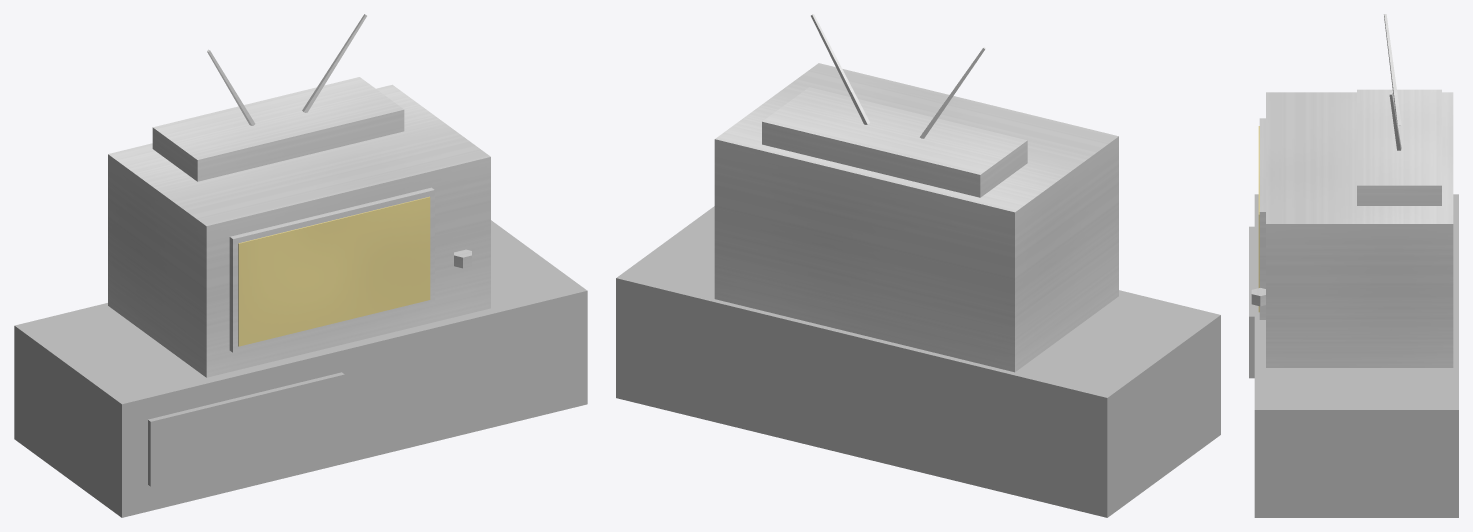
3 views of the same model, side by side, from view 1: azimuth 30°, elevation 25°; view 2: azimuth 150°, elevation 25°; view 3: azimuth 270°, elevation 25° (orthographic). The views are drawn at different scales.
Parts seen in each view (by area): view 1: tv_tube; view 2: tv_tube; view 3: tv_tube.
Part boxes in pixels (x1,y1,x2,y2): tv_tube: (14, 14, 587, 517); tv_tube: (616, 14, 1220, 517); tv_tube: (1249, 14, 1458, 517).
Bounding box in the file's own units: 1.8 × 1.4 × 0.74.
